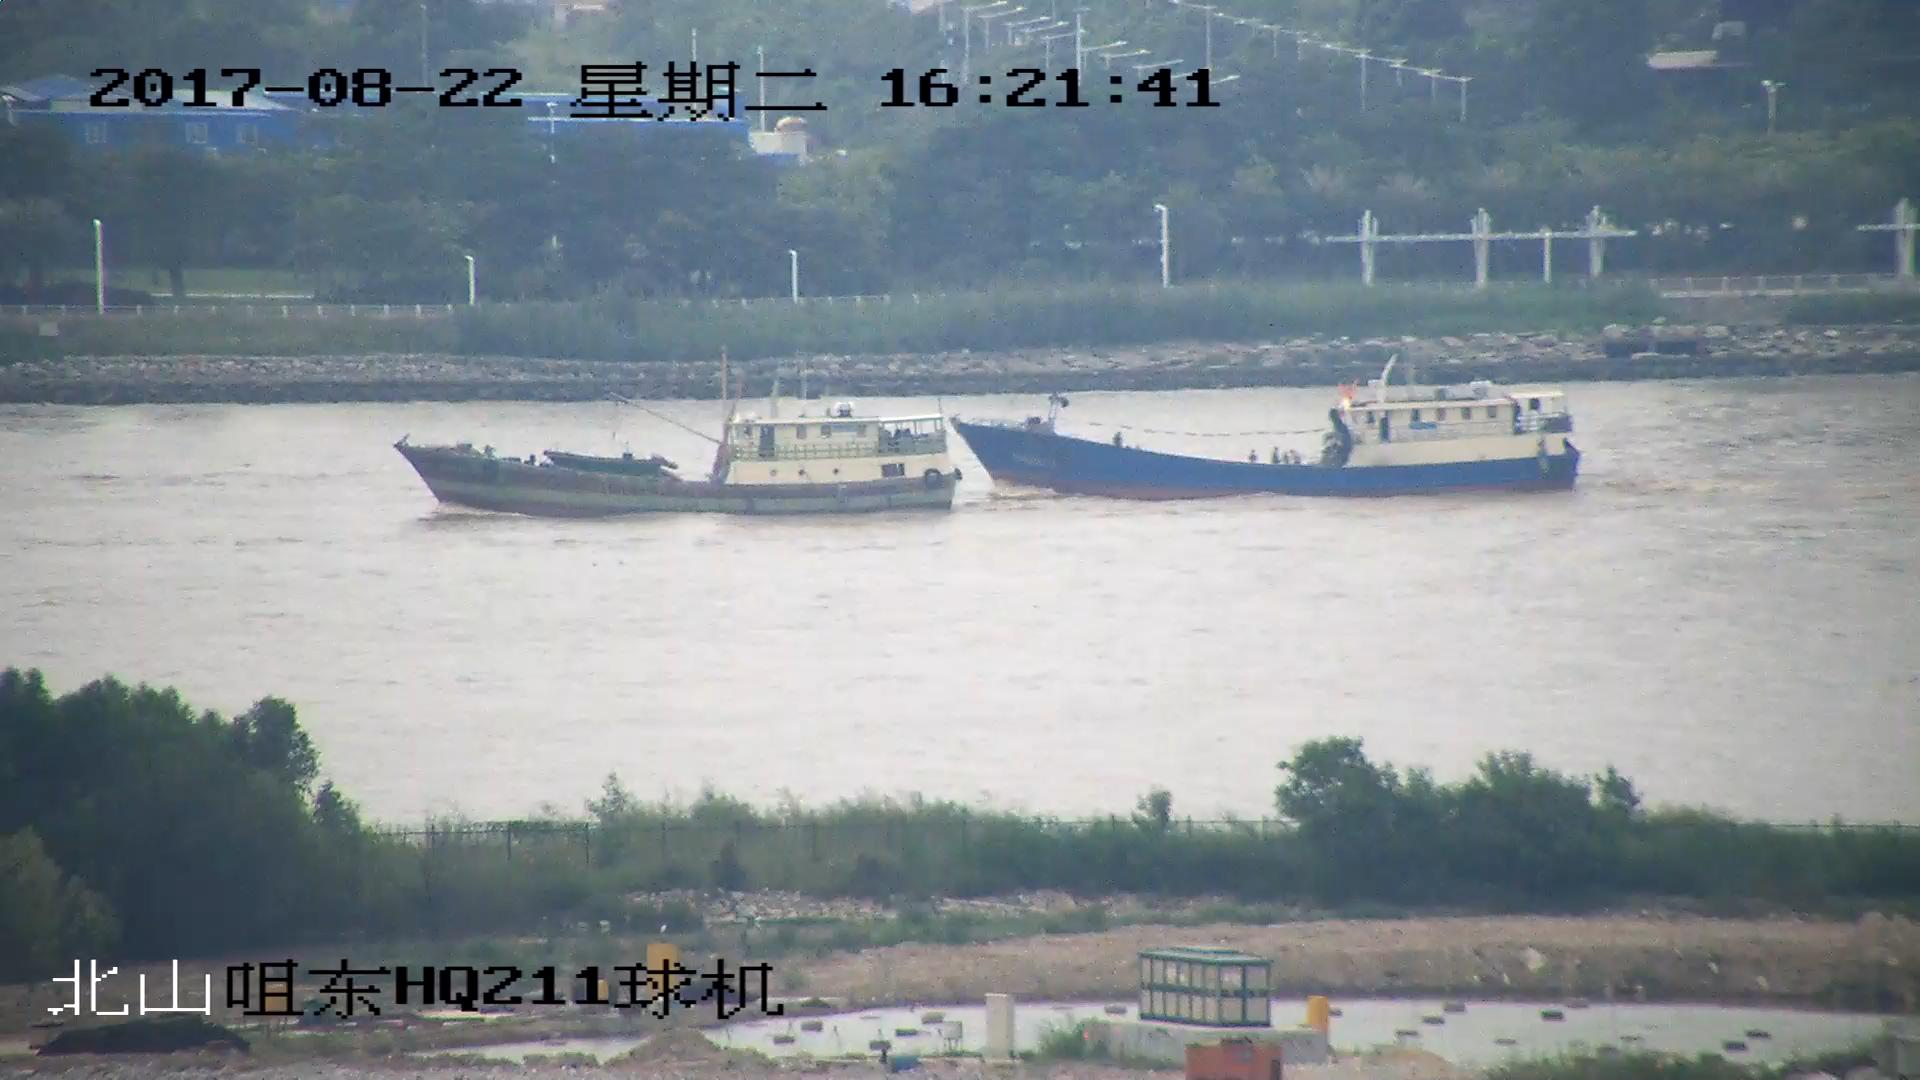fishing boat: (955, 359, 1582, 503), (397, 365, 957, 514)
